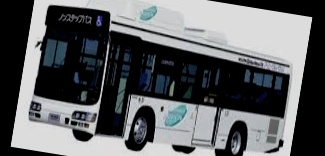bus: (22, 0, 300, 156)
